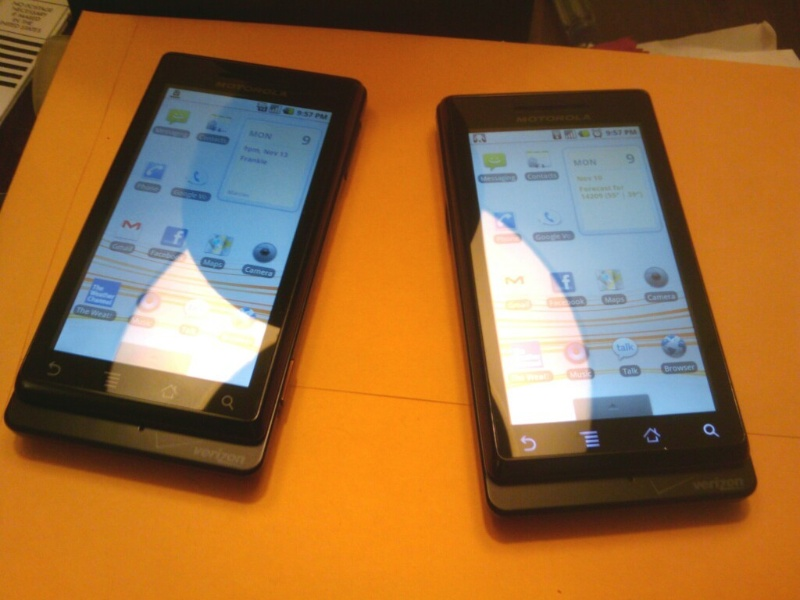cellphone: (423, 73, 768, 529), (11, 57, 375, 486)
